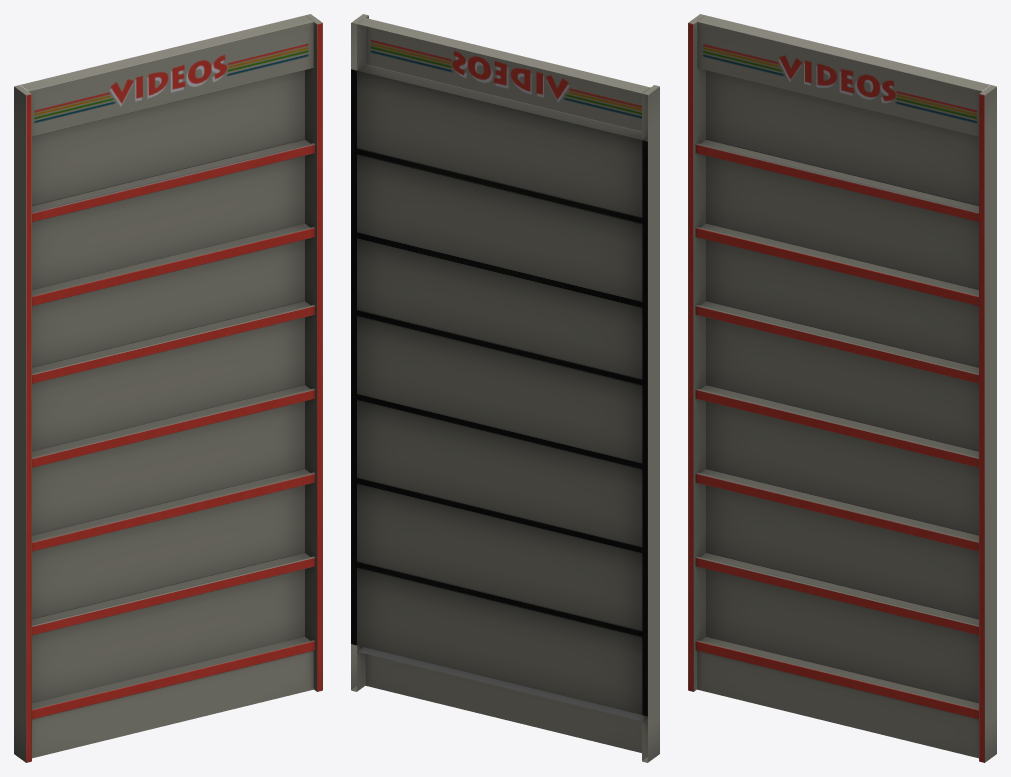
File: video_store_shelf_big.obj
3 renders of one model, left to right at view 1: azimuth 30°, elevation 25°; view 2: azimuth 150°, elevation 25°; view 3: azimuth 330°, elevation 25°, orthographic.
Parts seen in each view (by area): view 1: Mesh11_Group12_Group1_Model; view 2: Mesh11_Group12_Group1_Model; view 3: Mesh11_Group12_Group1_Model.
Part boxes in pixels (bbox=[...]): Mesh11_Group12_Group1_Model: bbox=[14, 14, 322, 762]; Mesh11_Group12_Group1_Model: bbox=[351, 14, 659, 762]; Mesh11_Group12_Group1_Model: bbox=[688, 14, 996, 762].
Size of the model in its own units: 1 by 2.15 by 0.07.
1 material, 1 textured.
